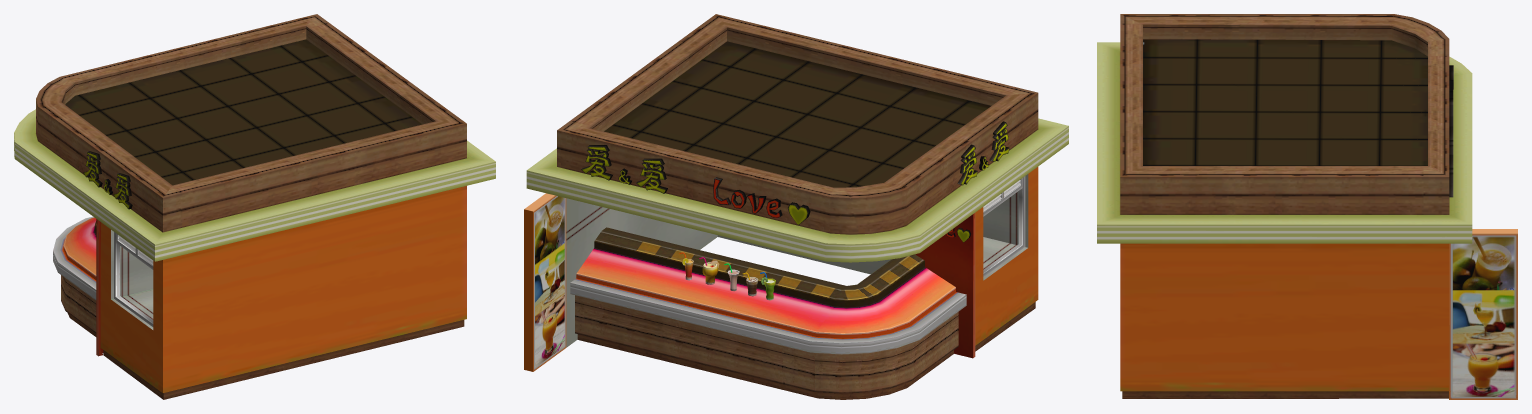
Rendered from furni_0201012.FBX.
The picture shows the model from 3 angles, left to right: view 1: azimuth 30°, elevation 25°; view 2: azimuth 150°, elevation 25°; view 3: azimuth 270°, elevation 25°; orthographic projection. The views are drawn at different scales.
Visible parts, largest first — view 1: furni_0201012; view 2: furni_0201012; view 3: furni_0201012.
Part boxes in pixels (x1,y1,x2,y2): furni_0201012: (14, 14, 495, 399); furni_0201012: (524, 14, 1068, 399); furni_0201012: (1097, 14, 1517, 399).
Bounding box in the file's own units: 592 × 337 × 577.
2 materials, 2 textured.
